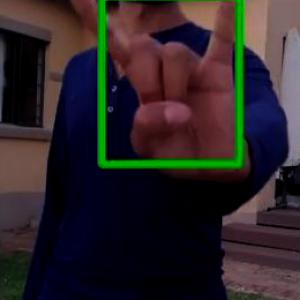takeoff-hand: (60, 0, 245, 185)
